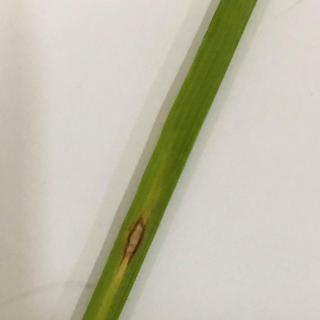Blast: (117, 202, 156, 289)
